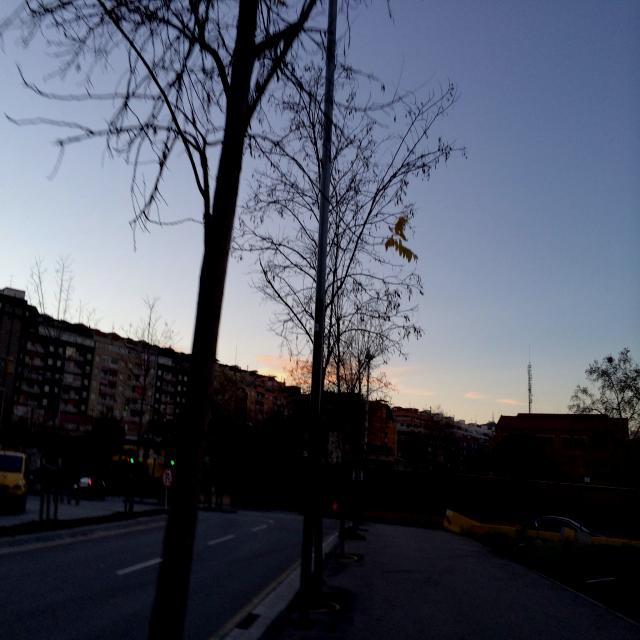car: (515, 515, 606, 540), (0, 448, 28, 514), (74, 475, 106, 501)
